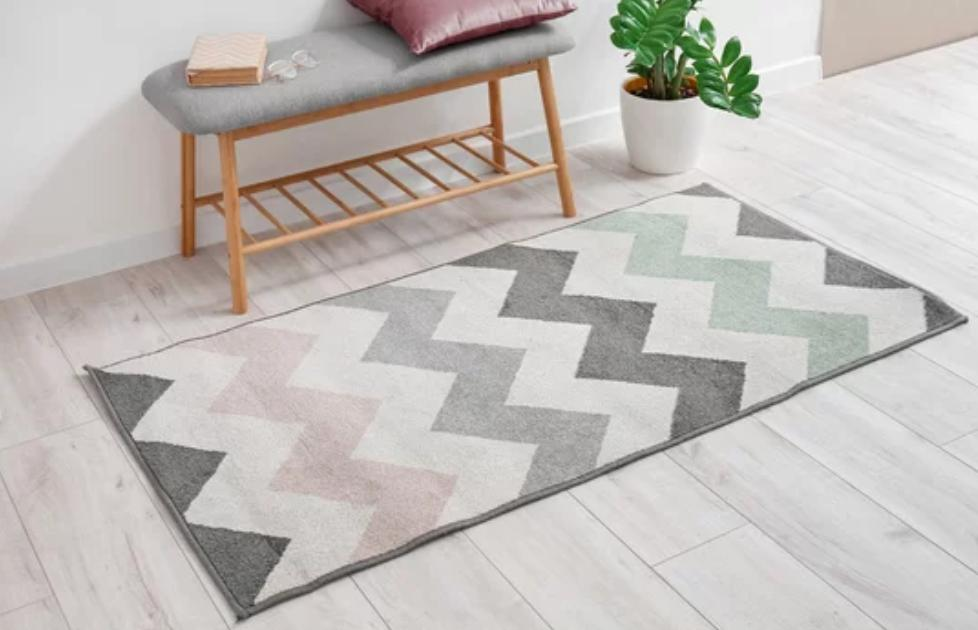carpet: (87, 61, 971, 630)
